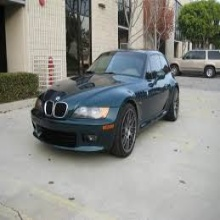no damage: (30, 49, 178, 156)
